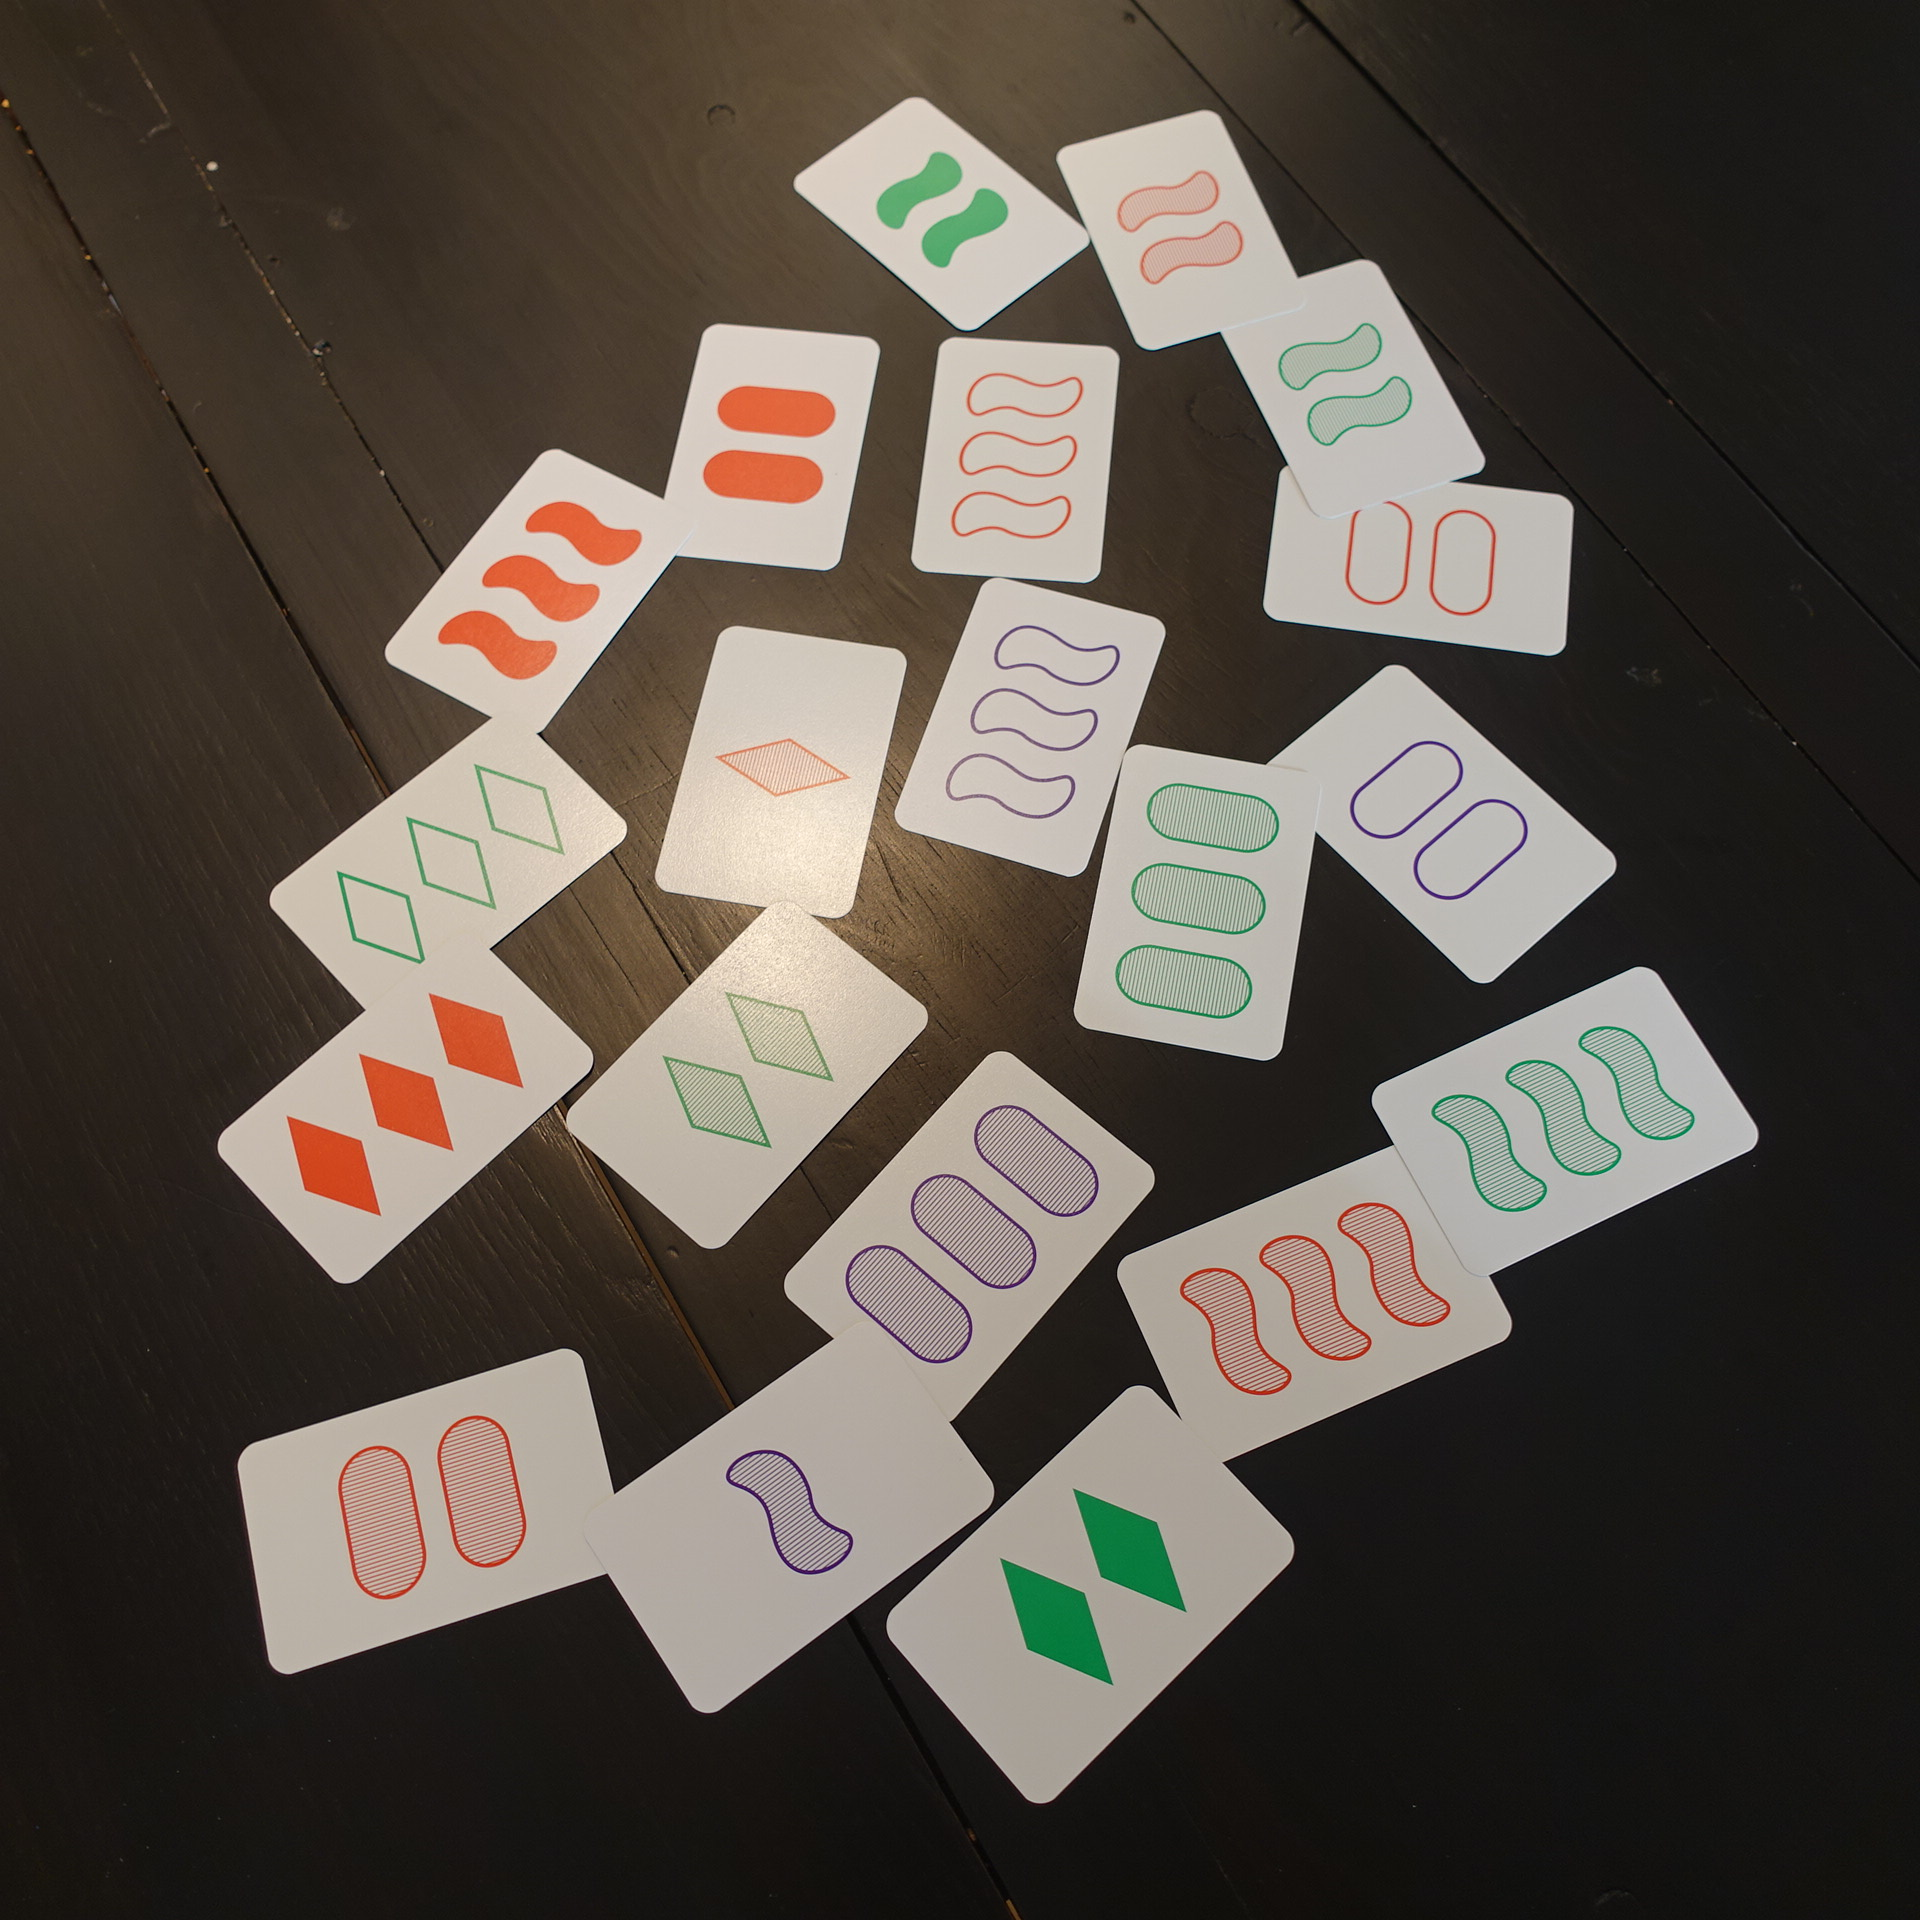c-1-h-d-p: (575, 1329, 1006, 1723)
c-1-h-d-r: (649, 619, 914, 927)
c-2-f-d-g: (877, 1377, 1308, 1813), (777, 84, 1095, 339)
c-2-f-o-r: (649, 313, 890, 577)
c-2-h-d-g: (559, 888, 941, 1264), (1211, 250, 1496, 527)
c-2-h-d-r: (1048, 100, 1320, 359)
c-2-h-o-r: (232, 1340, 629, 1683)
c-2-u-o-p: (1266, 658, 1626, 997)
c-2-u-o-r: (1248, 459, 1591, 668)
c-3-f-d-r: (202, 928, 601, 1292), (367, 433, 691, 737)
c-3-h-d-g: (1366, 958, 1772, 1285)
c-3-h-d-r: (1108, 1131, 1526, 1468)
c-3-h-o-g: (1062, 738, 1336, 1074)
c-3-h-o-p: (770, 1043, 1166, 1428)
c-3-u-d-g: (257, 709, 636, 1030)
c-3-u-d-p: (888, 570, 1173, 886)
c-3-u-d-r: (897, 325, 1138, 593)
